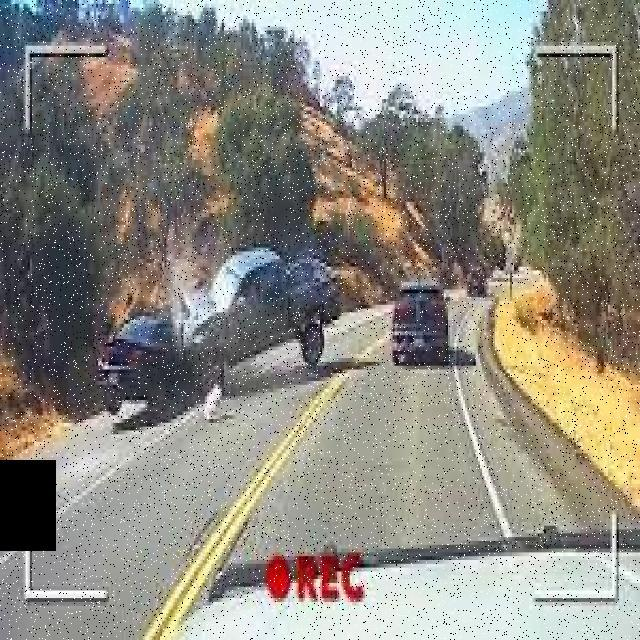severe: (95, 244, 344, 423)
